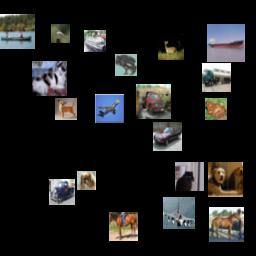airplane: (163, 197, 195, 229), (95, 94, 124, 123)
automobile: (153, 122, 182, 151)
bird: (51, 24, 70, 43)
cat: (32, 61, 67, 96), (175, 162, 204, 191)
deer: (158, 34, 184, 60)
dog: (208, 162, 243, 197), (55, 98, 77, 120), (77, 171, 96, 190)
frog: (115, 54, 137, 76), (205, 98, 227, 120)
ship: (207, 24, 245, 62), (0, 14, 35, 49), (84, 30, 106, 52)
truck: (136, 84, 171, 119), (202, 63, 231, 92), (49, 179, 75, 205)
